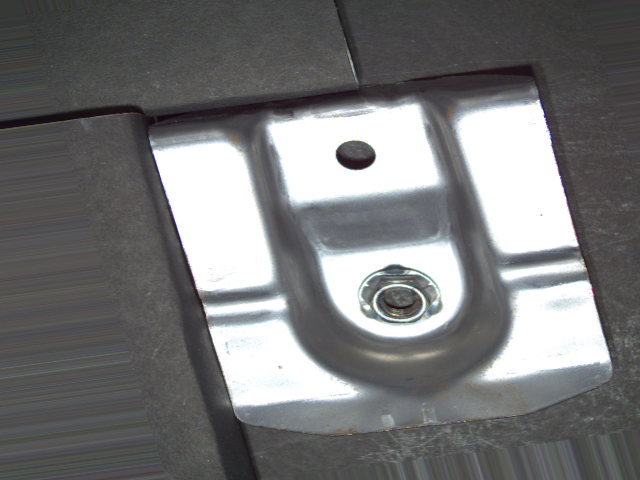good: (353, 261, 448, 328)
